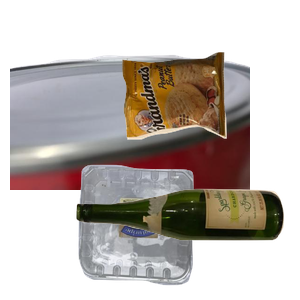glass: (74, 186, 300, 300)
metal: (10, 52, 250, 232)
plastic: (76, 162, 264, 300)
trash: (120, 50, 300, 182)
